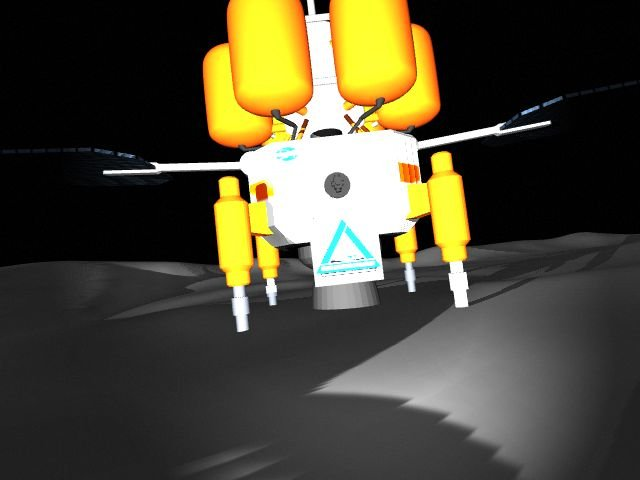basemarker: (315, 219, 380, 276)
